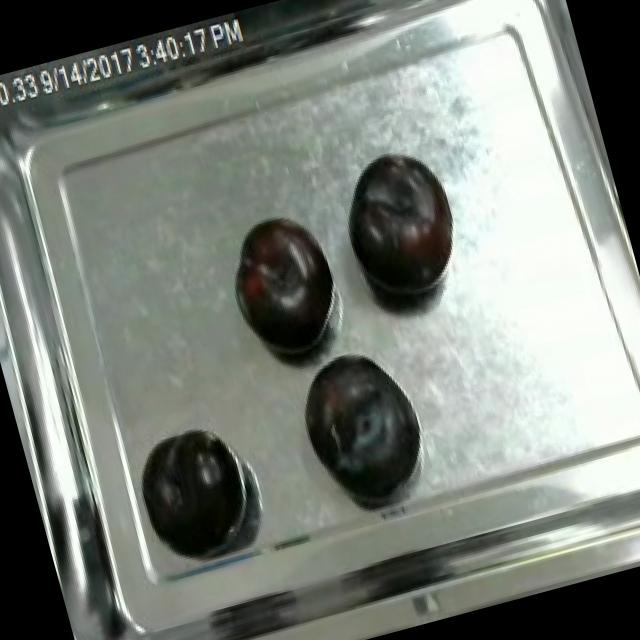Fruit: (326, 135, 475, 318), (285, 338, 435, 516), (212, 201, 352, 372), (130, 418, 256, 564)
